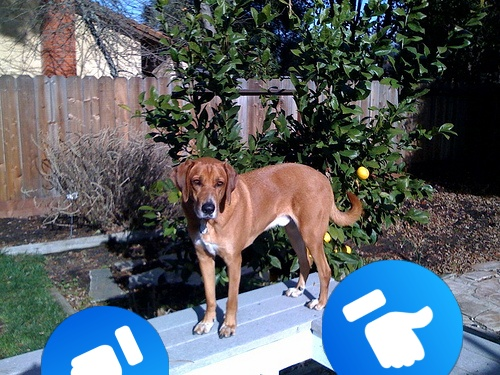like: (322, 260, 463, 375), (41, 306, 169, 375)
